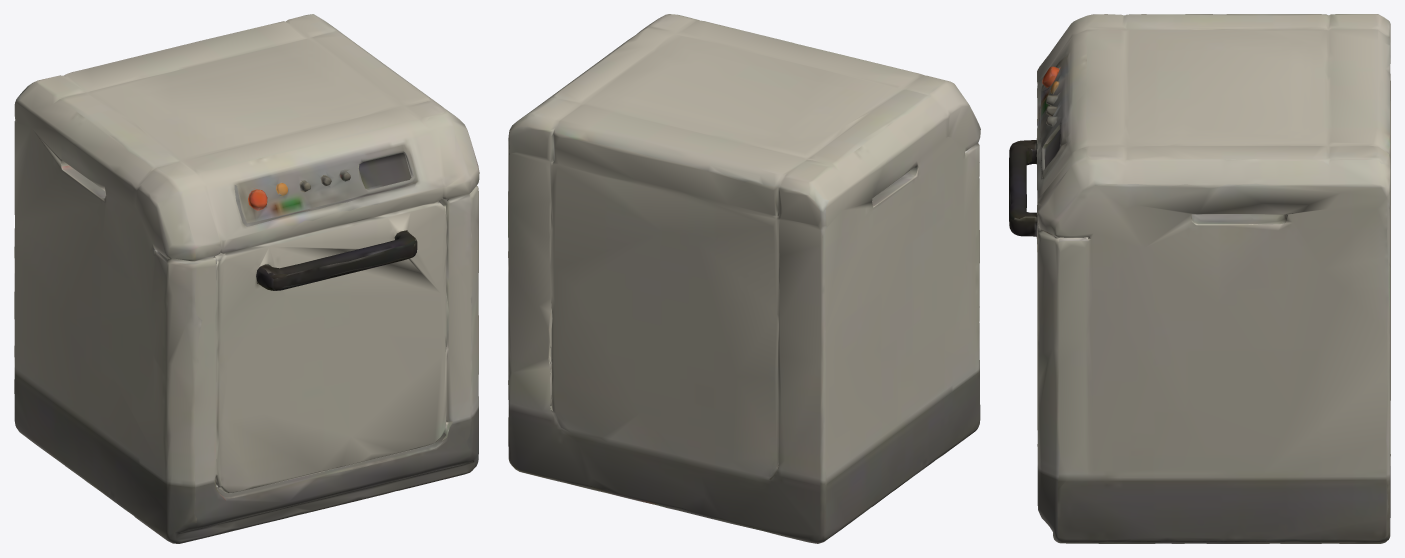
The model's file is dishwasher.glb.
3 renders of one model, left to right at view 1: azimuth 30°, elevation 25°; view 2: azimuth 150°, elevation 25°; view 3: azimuth 270°, elevation 25°, orthographic. The views are drawn at different scales.
Visible parts, largest first — view 1: geometry_0; view 2: geometry_0; view 3: geometry_0.
Boxes of the visible parts, x1=… form: geometry_0: x1=14, y1=14, x2=479, y2=543; geometry_0: x1=508, y1=14, x2=980, y2=543; geometry_0: x1=1009, y1=14, x2=1390, y2=543.
Bounding box in the file's own units: 0.9277 × 1 × 0.9116.
Materials: 1 (1 with a texture image).
